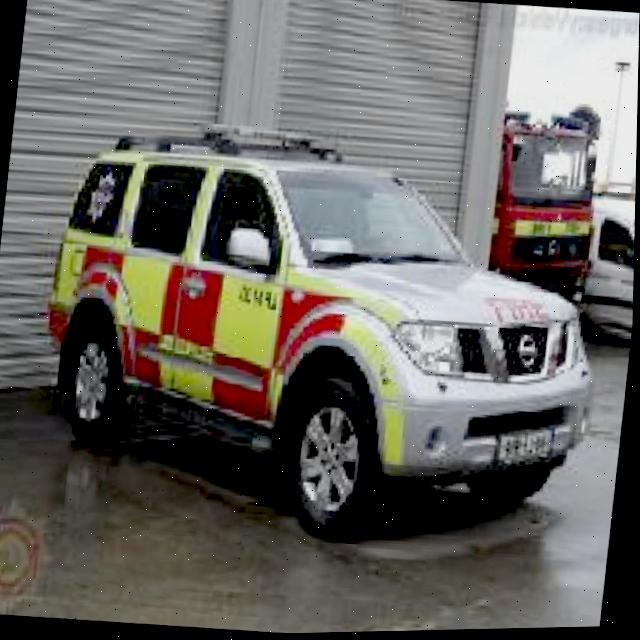emergency: (23, 105, 621, 568), (358, 102, 609, 336)
